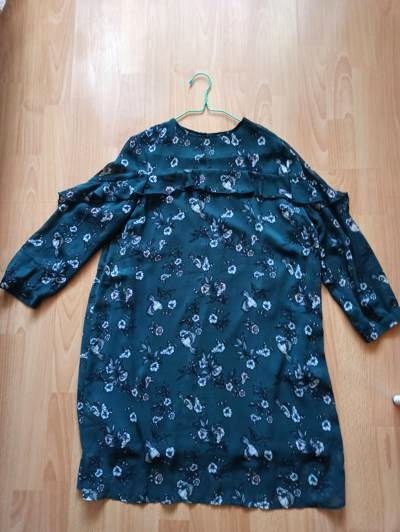Dress: (9, 95, 400, 517)
